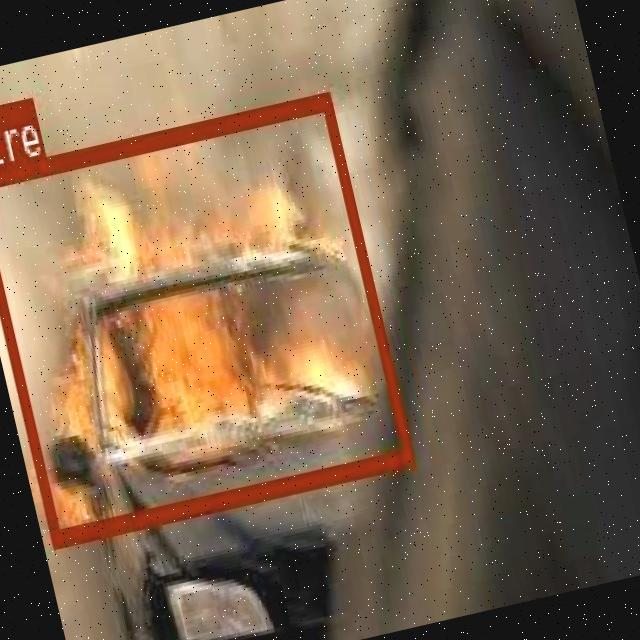fire: (0, 89, 413, 546)
